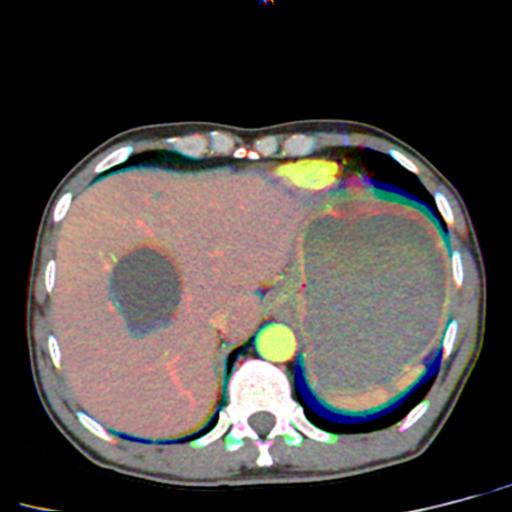Cyst: (109, 247, 181, 337)
